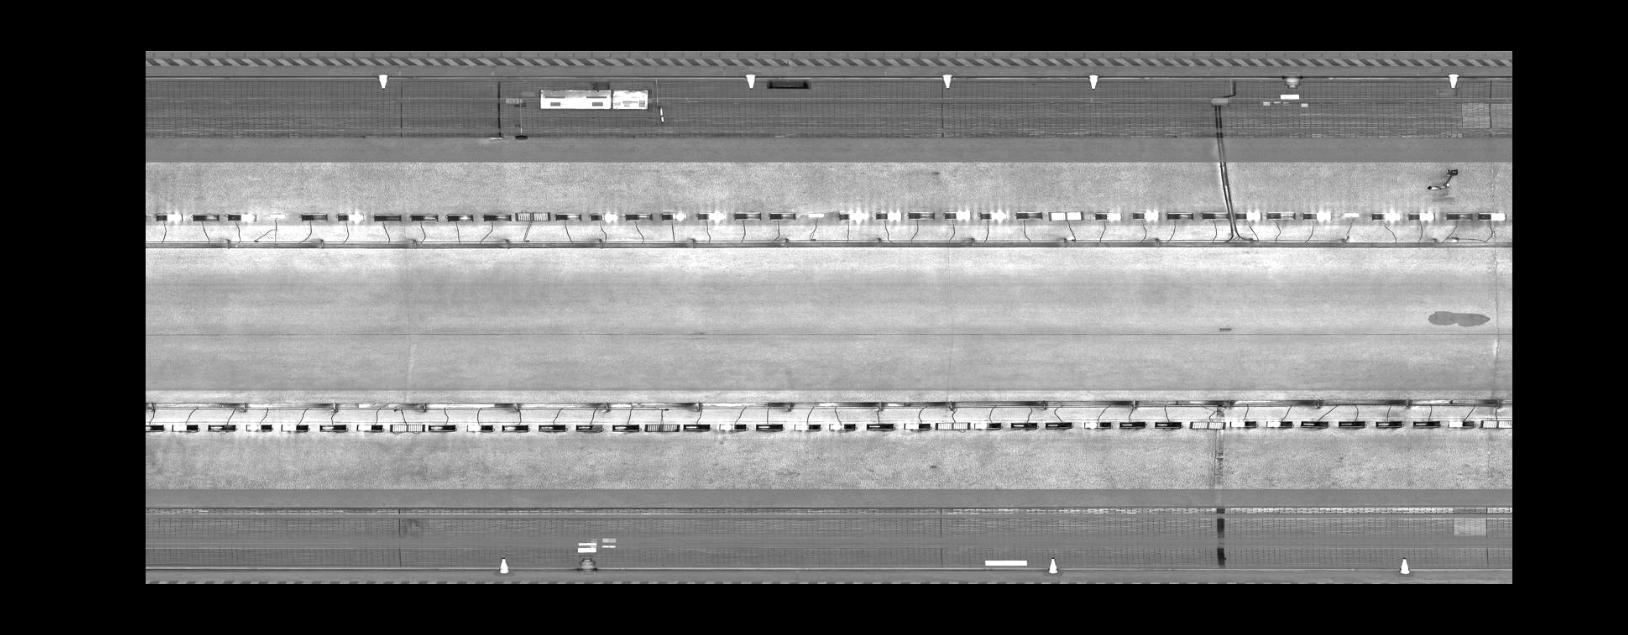light: (1186, 416, 1228, 432), (1044, 208, 1085, 223), (513, 208, 551, 223), (1129, 208, 1163, 223), (835, 208, 869, 223), (641, 420, 683, 433), (388, 420, 427, 434), (1093, 208, 1127, 223), (975, 208, 1008, 223), (872, 208, 905, 223), (1477, 416, 1511, 432), (223, 209, 259, 223), (479, 210, 515, 223), (154, 209, 185, 224), (1369, 209, 1403, 223), (933, 419, 972, 432), (442, 210, 478, 223), (352, 420, 387, 434), (1012, 208, 1044, 222), (905, 208, 938, 222), (694, 209, 726, 223), (1299, 208, 1333, 221), (406, 210, 440, 223), (370, 210, 404, 223), (298, 210, 332, 223), (899, 418, 933, 432), (552, 209, 584, 223), (334, 210, 368, 223), (572, 421, 605, 435), (464, 420, 497, 434), (1264, 208, 1299, 220), (166, 421, 201, 434), (942, 208, 972, 222), (1231, 208, 1264, 221), (766, 209, 798, 222), (731, 209, 763, 222), (536, 420, 568, 434), (1443, 210, 1477, 222), (1404, 210, 1438, 222), (1444, 416, 1478, 429), (1115, 418, 1149, 431), (1080, 418, 1114, 431), (863, 419, 897, 432), (203, 421, 238, 434), (588, 210, 619, 223), (1475, 210, 1509, 222), (1163, 209, 1196, 221), (1298, 417, 1331, 430), (1150, 418, 1184, 431), (1040, 418, 1074, 431), (825, 419, 859, 432), (278, 420, 311, 433), (659, 209, 689, 222), (1409, 417, 1444, 429), (1334, 417, 1369, 429), (622, 210, 654, 222), (189, 211, 221, 223), (426, 421, 458, 434), (1197, 210, 1231, 221), (715, 420, 750, 432), (1263, 417, 1294, 430), (317, 421, 348, 434), (1227, 417, 1259, 429), (1007, 419, 1039, 431), (971, 419, 1003, 431), (243, 421, 275, 433), (500, 421, 530, 434), (1373, 417, 1404, 429), (752, 421, 786, 432), (791, 421, 824, 432), (680, 421, 713, 432), (607, 422, 642, 432), (145, 420, 165, 432), (265, 211, 288, 220), (1341, 209, 1363, 216), (805, 211, 826, 218)
